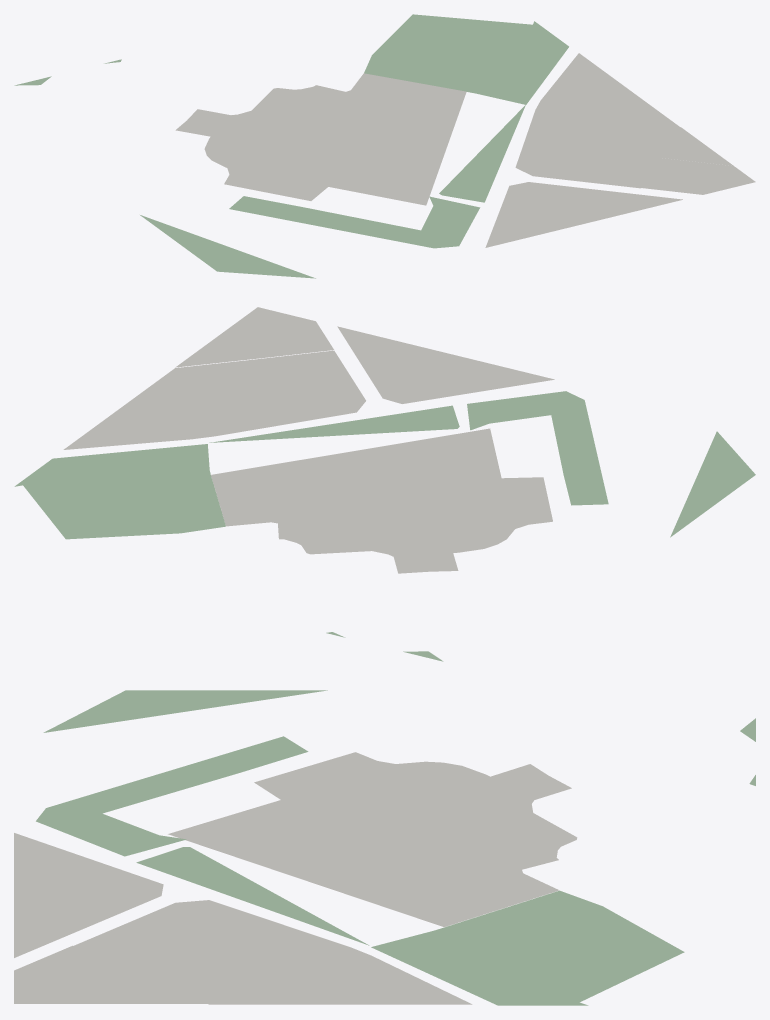
File: 105_111_mid.glb
3 views of the same model, one above another, from view 1: azimuth 30°, elevation 25°; view 2: azimuth 150°, elevation 25°; view 3: azimuth 270°, elevation 25° (orthographic). The views are drawn at different scales.
Bounding box in the file's own units: 500 × 1.84 × 500.
